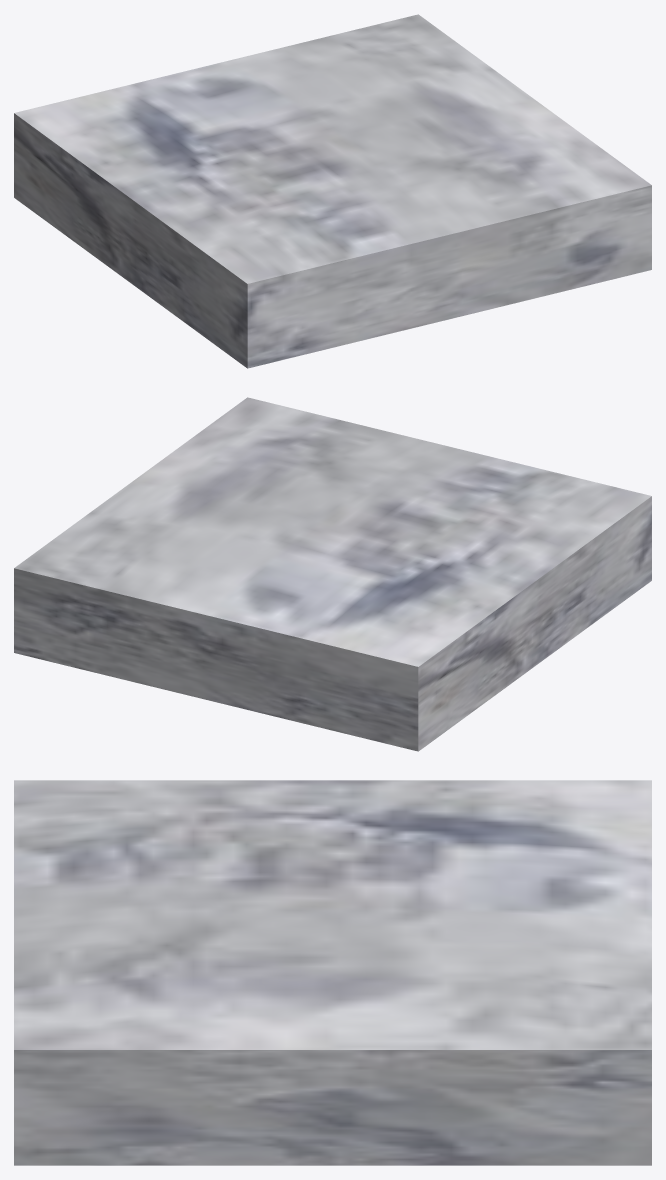
The model's file is FloorTile.fbx.
3 renders of one model, top to bottom at view 1: azimuth 30°, elevation 25°; view 2: azimuth 150°, elevation 25°; view 3: azimuth 270°, elevation 25°, orthographic. The views are drawn at different scales.
Visible parts, largest first — view 1: pCube1; view 2: pCube1; view 3: pCube1.
Part boxes in pixels (bbox=[...]): pCube1: bbox=[14, 14, 651, 368]; pCube1: bbox=[14, 397, 651, 751]; pCube1: bbox=[14, 780, 651, 1165].
Size of the model in its own units: 5 by 1.13 by 5.
1 material, 1 textured.
